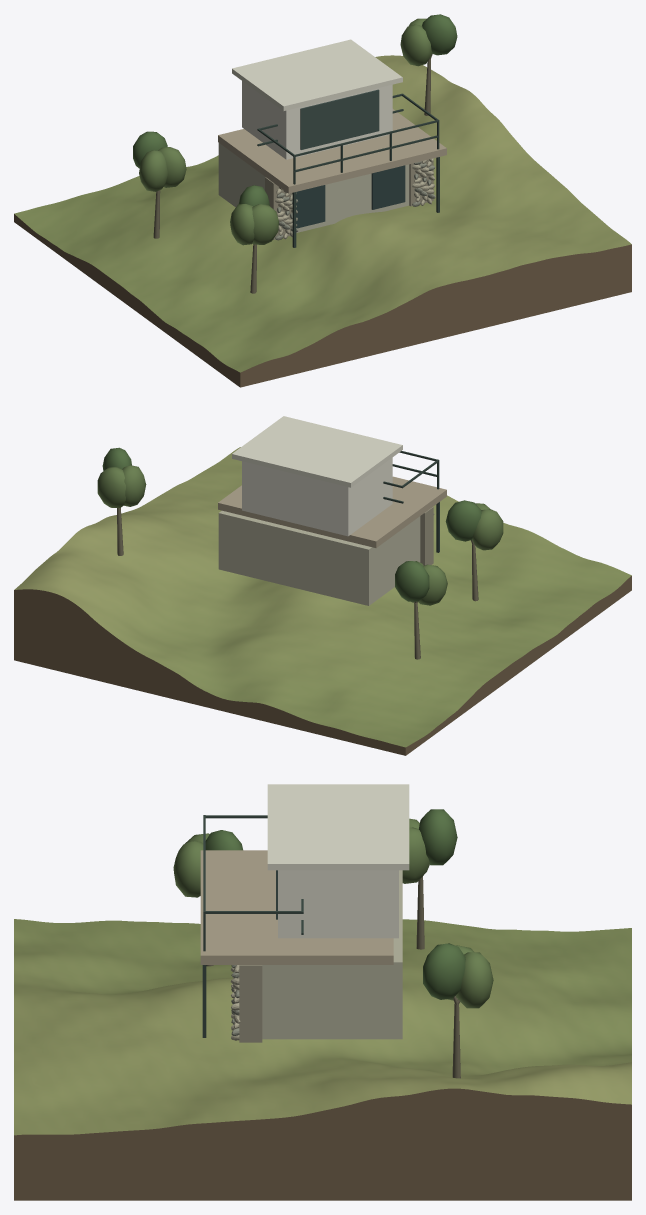
File: gms-59.glb
3 views of the same model, one above another, from view 1: azimuth 30°, elevation 25°; view 2: azimuth 150°, elevation 25°; view 3: azimuth 270°, elevation 25° (orthographic). The views are drawn at different scales.
Visible parts, largest first — view 1: GMS-59 - estudio del paisaje; view 2: GMS-59 - estudio del paisaje; view 3: GMS-59 - estudio del paisaje.
Boxes of the visible parts, bbox=[...] form: GMS-59 - estudio del paisaje: bbox=[14, 14, 631, 387]; GMS-59 - estudio del paisaje: bbox=[14, 416, 631, 755]; GMS-59 - estudio del paisaje: bbox=[14, 784, 631, 1200].
Bounding box in the file's own units: 12 × 5.27 × 12.
